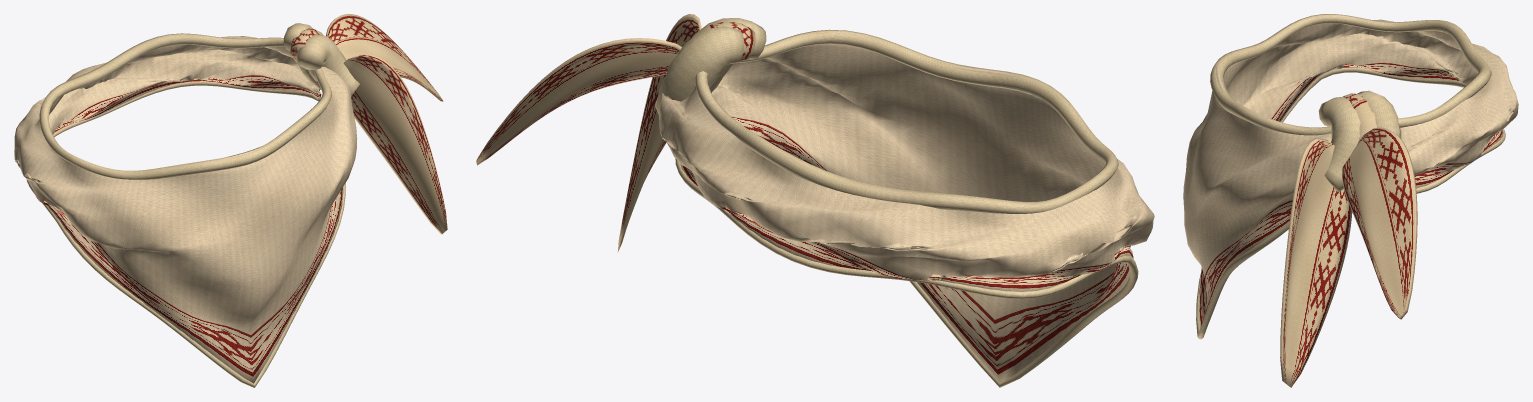
Rendered from neckerchief.glb.
The picture shows the model from 3 angles, left to right: view 1: azimuth 30°, elevation 25°; view 2: azimuth 150°, elevation 25°; view 3: azimuth 270°, elevation 25°; orthographic projection. The views are drawn at different scales.
Visible parts, largest first — view 1: Folded neck cloth with corner embroidery, Pointed embroidered tie end.001, Rolled neck edge, Rolled stitched outer kerchief hem, Pointed embroidered tie end, Compressed wrapped knot fold, Compressed wrapped knot fold.002, Compressed wrapped knot fold.001; view 2: Folded neck cloth with corner embroidery, Rolled neck edge, Pointed embroidered tie end, Rolled stitched outer kerchief hem, Compressed wrapped knot fold.002, Pointed embroidered tie end.001, Compressed wrapped knot fold.001, Compressed wrapped knot fold; view 3: Folded neck cloth with corner embroidery, Pointed embroidered tie end.001, Pointed embroidered tie end, Rolled neck edge, Rolled stitched outer kerchief hem, Compressed wrapped knot fold, Compressed wrapped knot fold.002, Compressed wrapped knot fold.001.
Boxes of the visible parts, <box> form: Folded neck cloth with corner embroidery: <box>14,36,357,387</box>; Pointed embroidered tie end.001: <box>343,54,447,234</box>; Rolled neck edge: <box>39,33,331,179</box>; Rolled stitched outer kerchief hem: <box>26,81,345,387</box>; Pointed embroidered tie end: <box>326,14,443,101</box>; Compressed wrapped knot fold: <box>297,34,359,95</box>; Compressed wrapped knot fold.002: <box>283,23,321,89</box>; Compressed wrapped knot fold.001: <box>290,28,323,83</box>; Folded neck cloth with corner embroidery: <box>659,44,1154,387</box>; Rolled neck edge: <box>695,29,1118,213</box>; Pointed embroidered tie end: <box>476,38,681,165</box>; Rolled stitched outer kerchief hem: <box>675,158,1138,387</box>; Compressed wrapped knot fold.002: <box>655,26,744,114</box>; Pointed embroidered tie end.001: <box>617,14,701,252</box>; Compressed wrapped knot fold.001: <box>692,21,755,92</box>; Compressed wrapped knot fold: <box>701,18,766,90</box>; Folded neck cloth with corner embroidery: <box>1183,19,1518,331</box>; Pointed embroidered tie end.001: <box>1280,138,1352,387</box>; Pointed embroidered tie end: <box>1342,127,1417,319</box>; Rolled neck edge: <box>1210,14,1491,135</box>; Rolled stitched outer kerchief hem: <box>1196,67,1505,339</box>; Compressed wrapped knot fold: <box>1318,96,1360,191</box>; Compressed wrapped knot fold.002: <box>1357,90,1401,138</box>; Compressed wrapped knot fold.001: <box>1343,93,1376,139</box>.
Bounding box in the file's own units: 0.4673 × 0.2835 × 0.2766.
3 materials, 3 textured.
